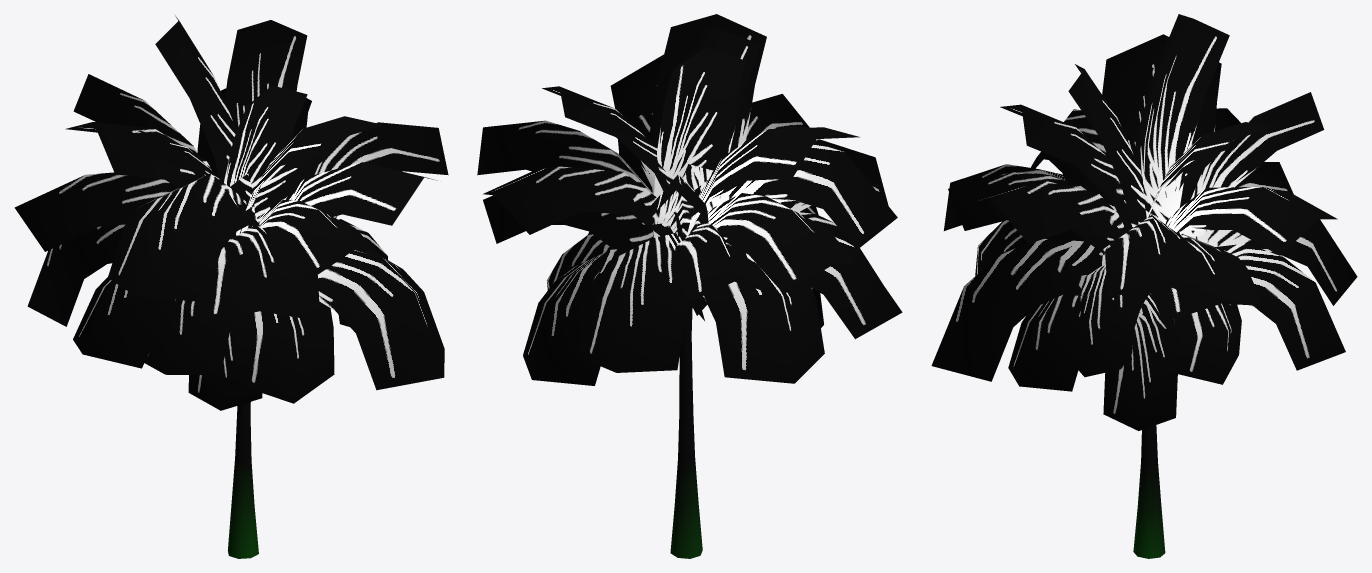
File: P_DesertCoconutPalm01.obj
3 renders of one model, left to right at view 1: azimuth 30°, elevation 25°; view 2: azimuth 150°, elevation 25°; view 3: azimuth 270°, elevation 25°, orthographic. The views are drawn at different scales.
Bounding box in the file's own units: 7.63 × 9.9 × 7.43.
